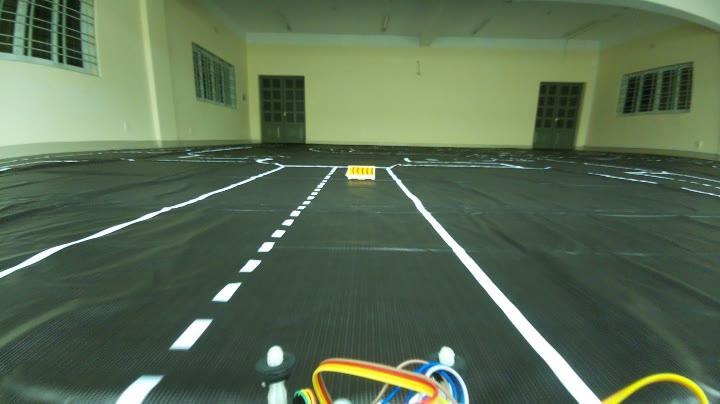roadblock: (340, 161, 382, 188)
